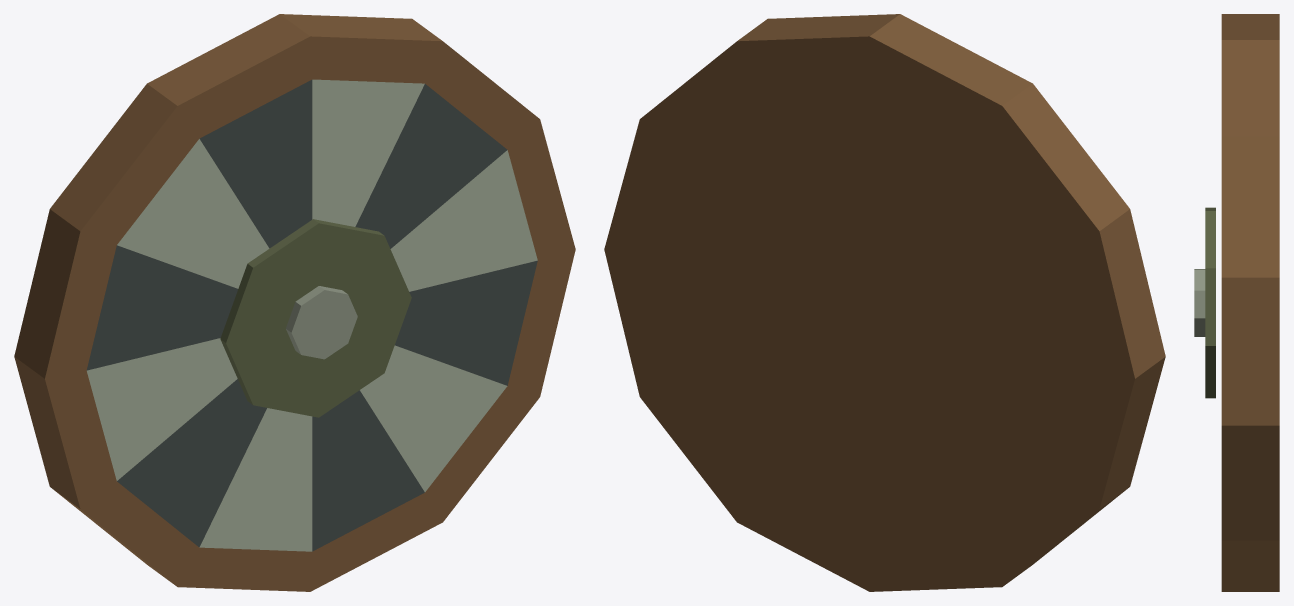
The model's file is Dartboard.gltf.
The picture shows the model from 3 angles, left to right: view 1: azimuth 30°, elevation 25°; view 2: azimuth 150°, elevation 25°; view 3: azimuth 270°, elevation 25°; orthographic projection. The views are drawn at different scales.
Visible parts, largest first — view 1: Dartboard; view 2: Dartboard; view 3: Dartboard.
Part boxes in pixels (x1,y1,x2,y2): Dartboard: (14, 14, 575, 591); Dartboard: (604, 14, 1165, 591); Dartboard: (1194, 14, 1279, 591).
Size of the model in its own units: 0.16 by 0.16 by 0.0235.
